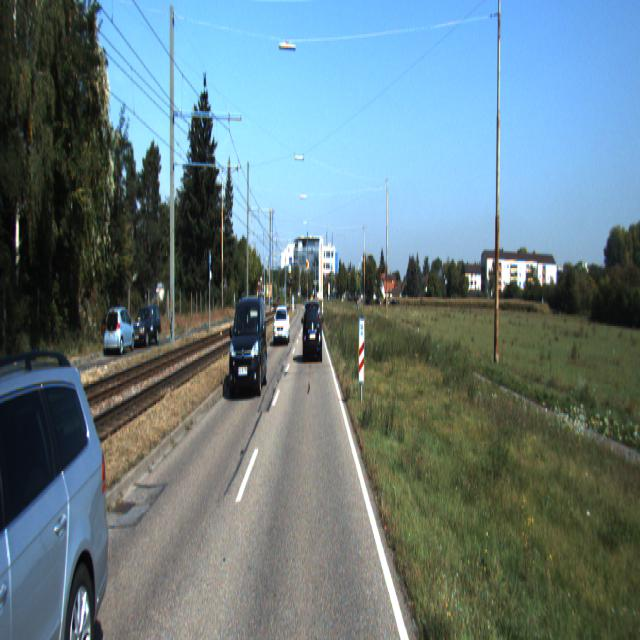Car: (0, 349, 130, 639), (228, 291, 268, 398), (104, 304, 137, 358), (131, 302, 163, 350), (303, 298, 323, 362), (274, 306, 290, 346)
